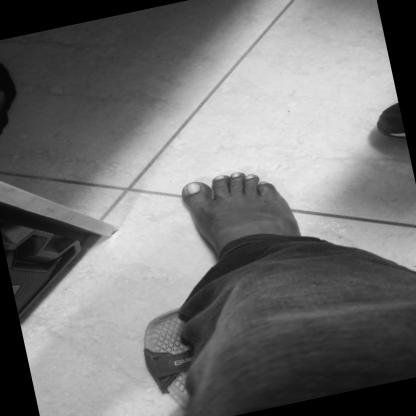ankle: (253, 234, 257, 237)
heel: (224, 257, 229, 262)
left_foot: (180, 163, 308, 285)
pinky: (265, 184, 269, 187)
toe: (188, 185, 195, 190)
